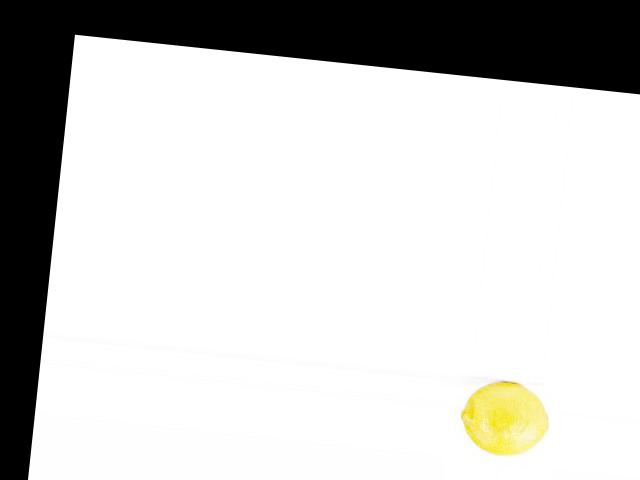lemon: (443, 374, 562, 462)
